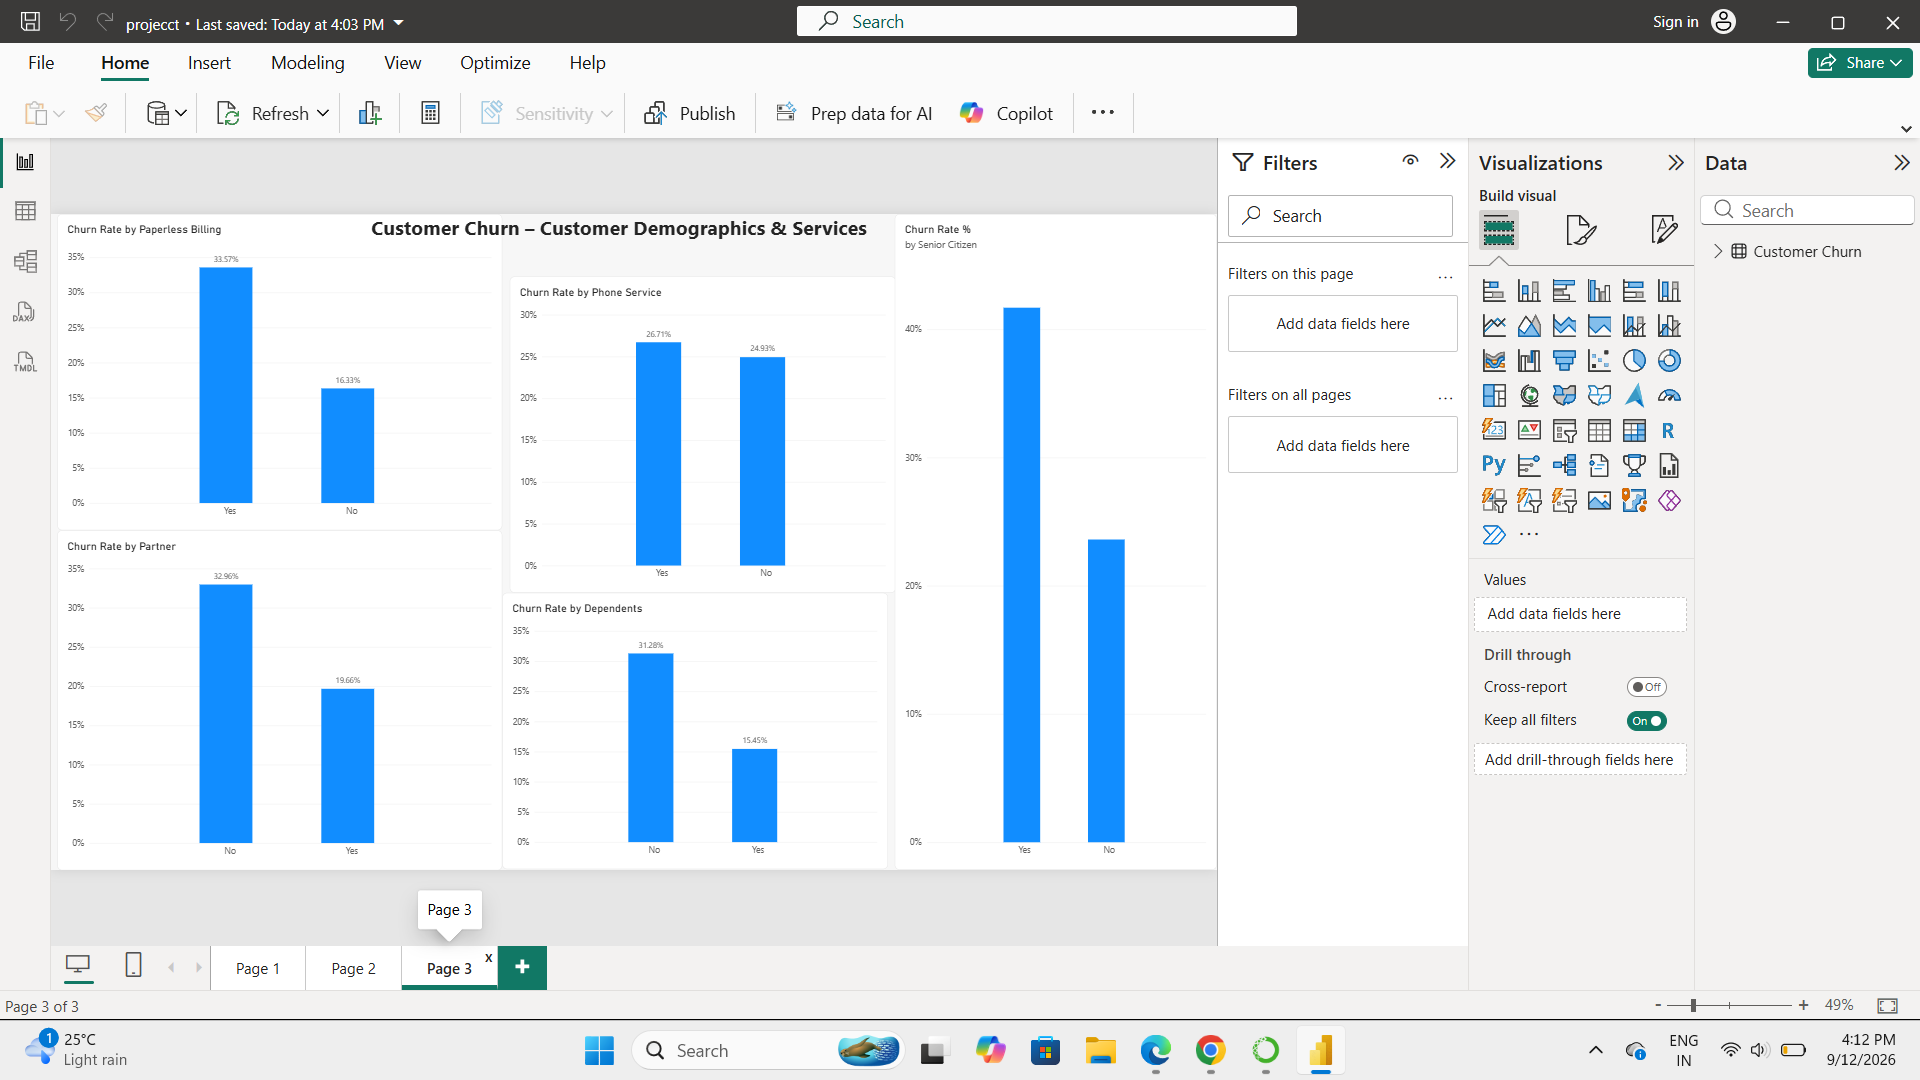

This screenshot's page, from the dashboard's own definition file:
{"tool":"powerbi","page":{"name":"Page 3","canvas":[1920,1080],"ordinal":2},"visuals":[{"type":"clusteredColumnChart","title":"Churn Rate by Paperless Billing","fields":{"Category":["Customer Churn.PaperlessBilling"],"Y":["Customer Churn.Churn Rate %"]},"box":[10.7,0,732.8,520.8],"z":0},{"type":"clusteredColumnChart","title":"Churn Rate by Partner","fields":{"Category":["Customer Churn.Partner"],"Y":["Customer Churn.Churn Rate %"]},"box":[10.3,520.8,732.8,559.9],"z":1000},{"type":"clusteredColumnChart","title":"Churn Rate by Phone Service","fields":{"Category":["Customer Churn.PhoneService"],"Y":["Customer Churn.Churn Rate %"]},"box":[754.7,102.6,636,520.8],"z":2000},{"type":"clusteredColumnChart","title":"Churn Rate by Dependents","fields":{"Category":["Customer Churn.Dependents"],"Y":["Customer Churn.Churn Rate %"]},"box":[744.1,624.3,635,455.4],"z":3000},{"type":"clusteredColumnChart","fields":{"Category":["Customer Churn.Senior Citizen"],"Y":["Customer Churn.Churn Rate %"]},"box":[1389.8,0,530.2,1079.7],"z":3001},{"type":"textbox","box":[1389.8,1060.5,530.2,19.2],"z":3002},{"type":"textbox","box":[100.5,0,1554.4,145.4],"z":3003}]}

Visuals, with their boxes on the page's 1920x1080 design canvas (x1, y1, x2, y2). These are canvas units, not pixel positions in the 1920x1080 screenshot, which may show the page scaled, cropped or inside an application window:
"Churn Rate by Paperless Billing" clusteredColumnChart: {"x1": 11, "y1": 0, "x2": 744, "y2": 521}
"Churn Rate by Partner" clusteredColumnChart: {"x1": 10, "y1": 521, "x2": 743, "y2": 1081}
"Churn Rate by Phone Service" clusteredColumnChart: {"x1": 755, "y1": 103, "x2": 1391, "y2": 623}
"Churn Rate by Dependents" clusteredColumnChart: {"x1": 744, "y1": 624, "x2": 1379, "y2": 1080}
clusteredColumnChart - Customer Churn.Senior Citizen x Customer Churn.Churn Rate %: {"x1": 1390, "y1": 0, "x2": 1920, "y2": 1080}
textbox: {"x1": 1390, "y1": 1060, "x2": 1920, "y2": 1080}
textbox: {"x1": 100, "y1": 0, "x2": 1655, "y2": 145}
